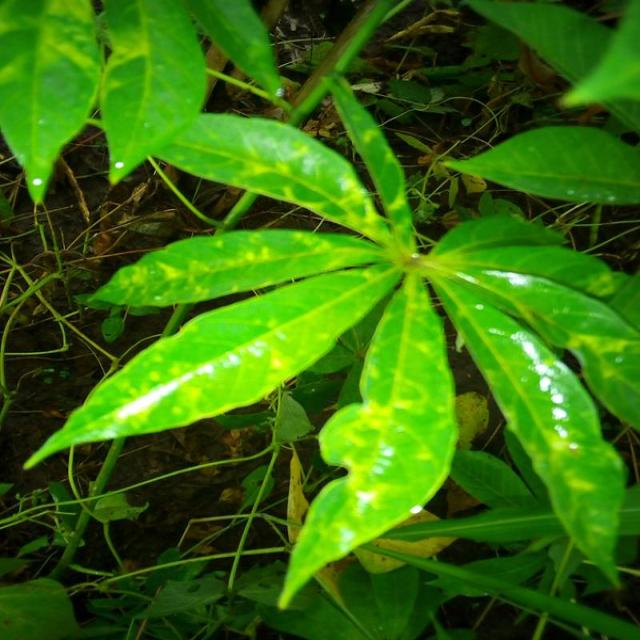cassava leaf: (17, 5, 638, 610), (22, 258, 400, 471), (276, 269, 459, 610), (0, 0, 102, 205)
